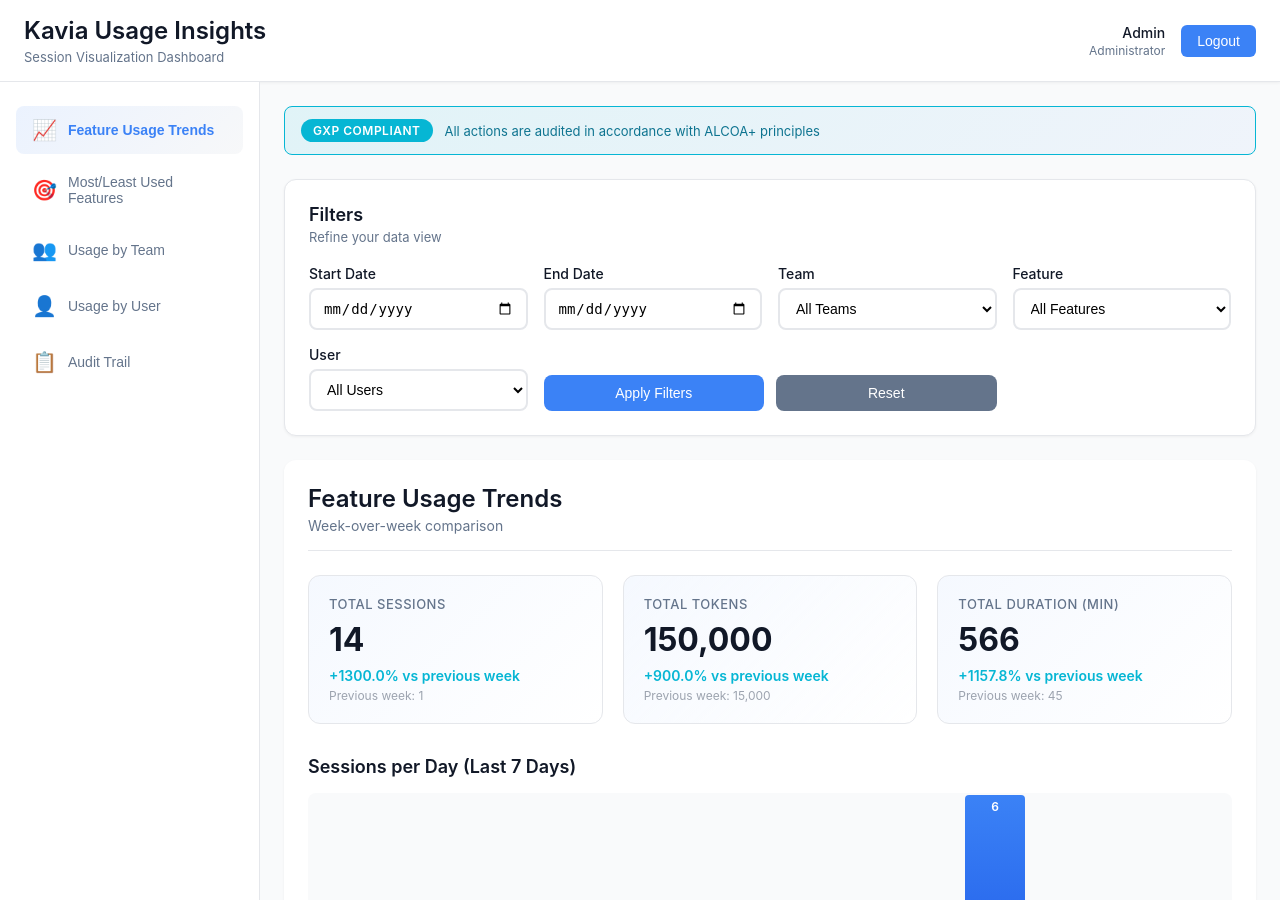
Test: Dashboard Component › hides filters when audit trail view is active
Expected: the text "Refine your data view" is shown, [309, 229, 442, 245]
# Switch to audit trail
Click the button "📋 Audit Trail": (130,362) [16, 338, 243, 386]
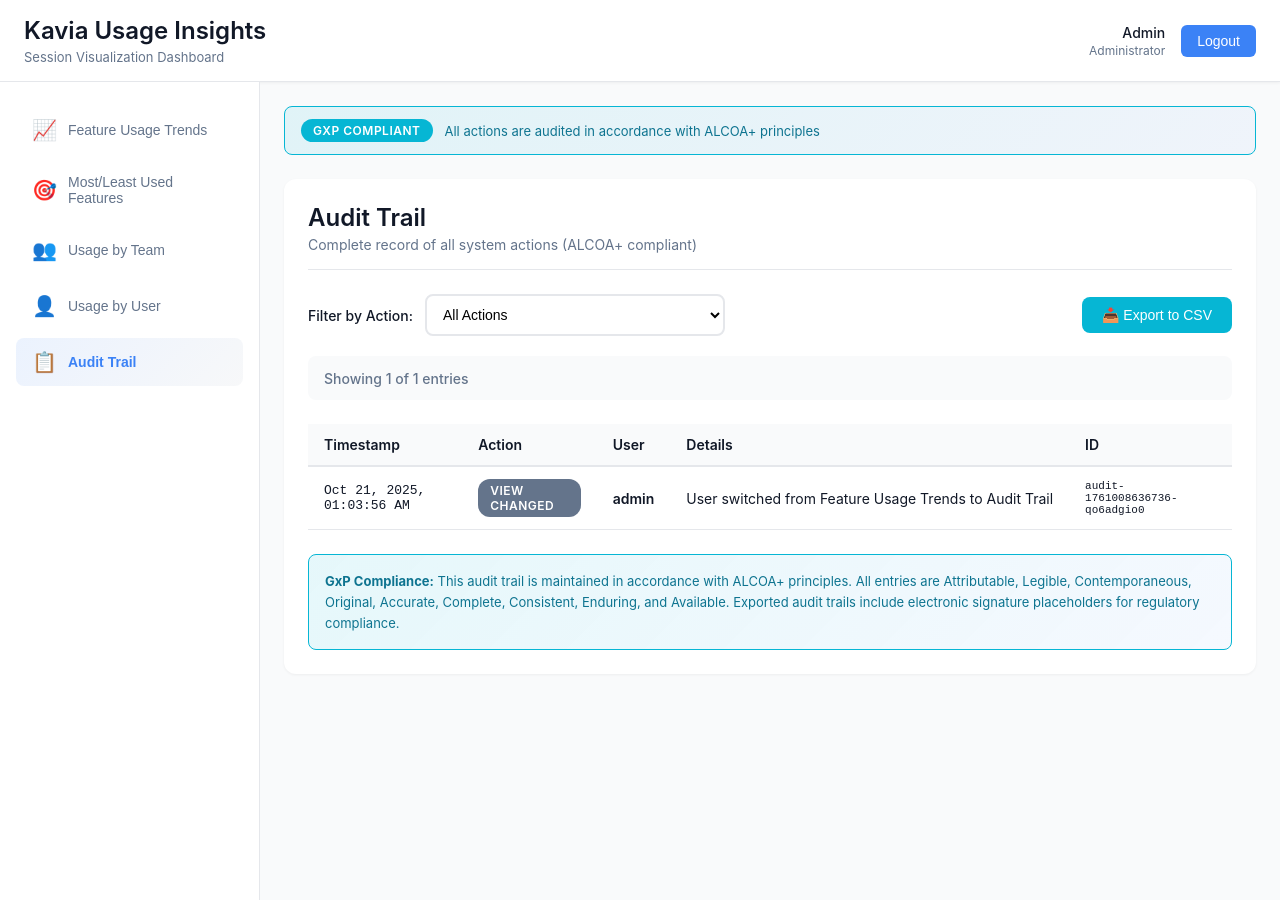
Result: the text "Refine your data view" is gone
